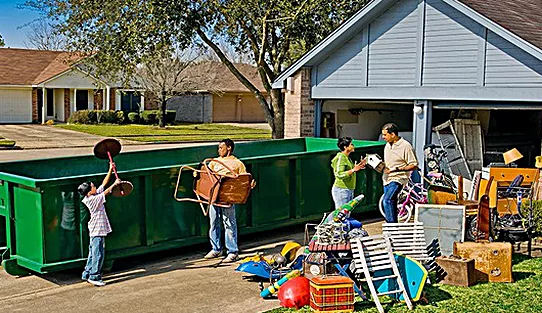Dumpster: (1, 135, 396, 281)
Person: (197, 138, 258, 265), (73, 161, 128, 292), (372, 120, 418, 226), (328, 136, 370, 228)
